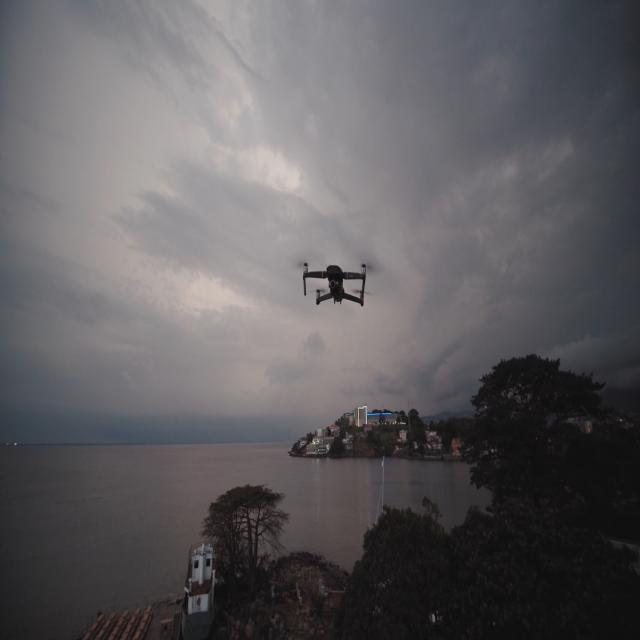drone: (302, 261, 367, 307)
